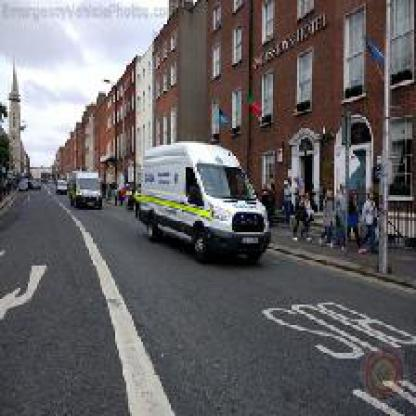emergency: (136, 143, 273, 262)
